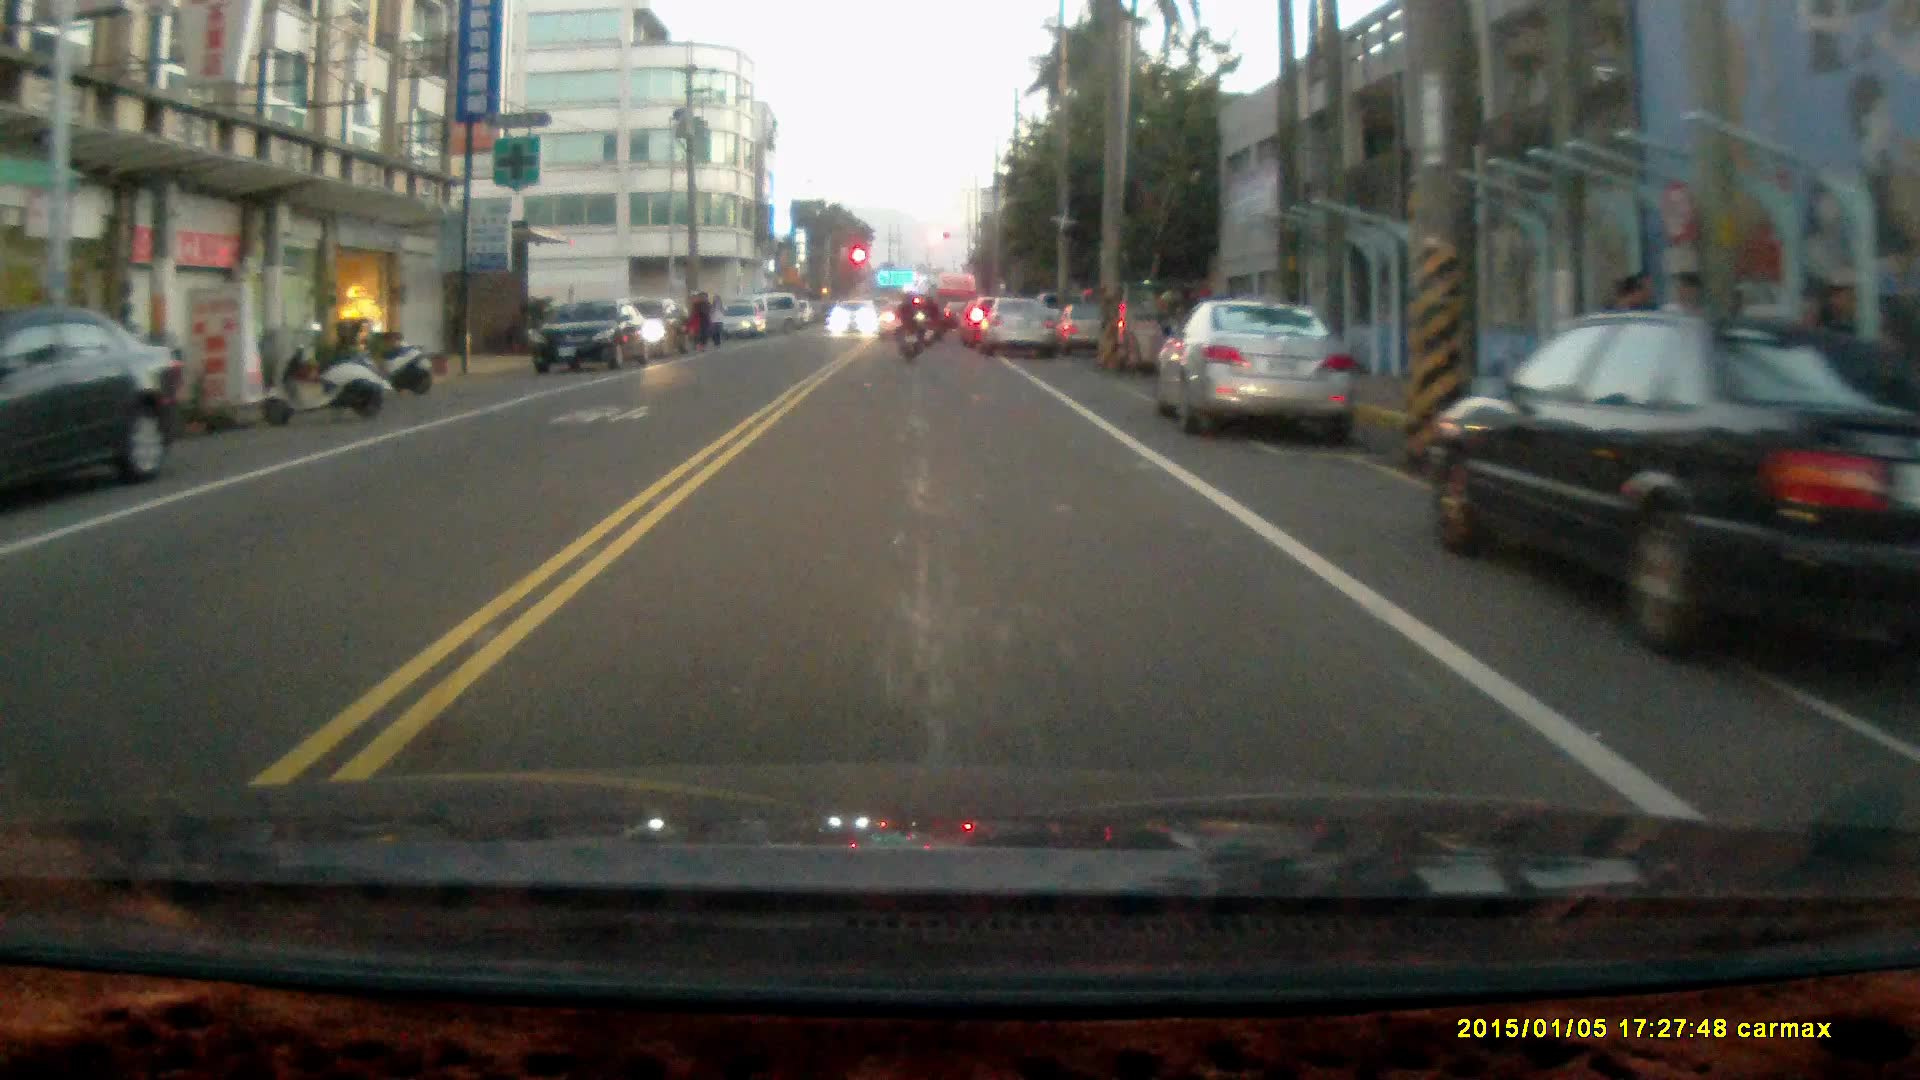pedestrian: (688, 287, 711, 350), (704, 290, 724, 350)
rider: (893, 287, 925, 363)
vehicle: (1427, 305, 1920, 656), (1, 306, 172, 501), (1152, 303, 1355, 433), (529, 299, 658, 379), (978, 291, 1057, 353), (827, 296, 881, 341)
